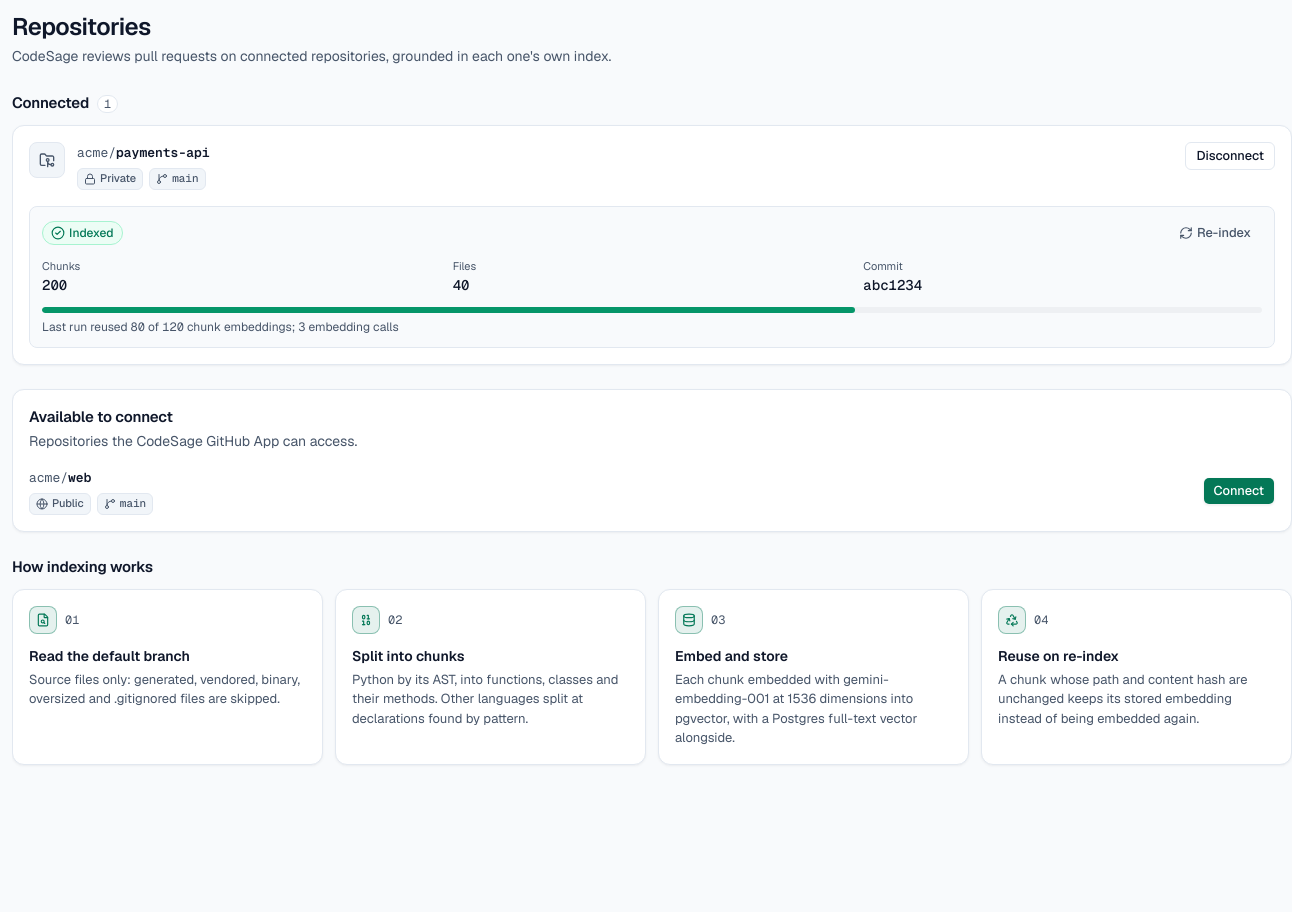
repositories page › confirms a connection with a toast
Click the button "Connect": (1239, 491) x1=1202 y1=477 x2=1275 y2=505
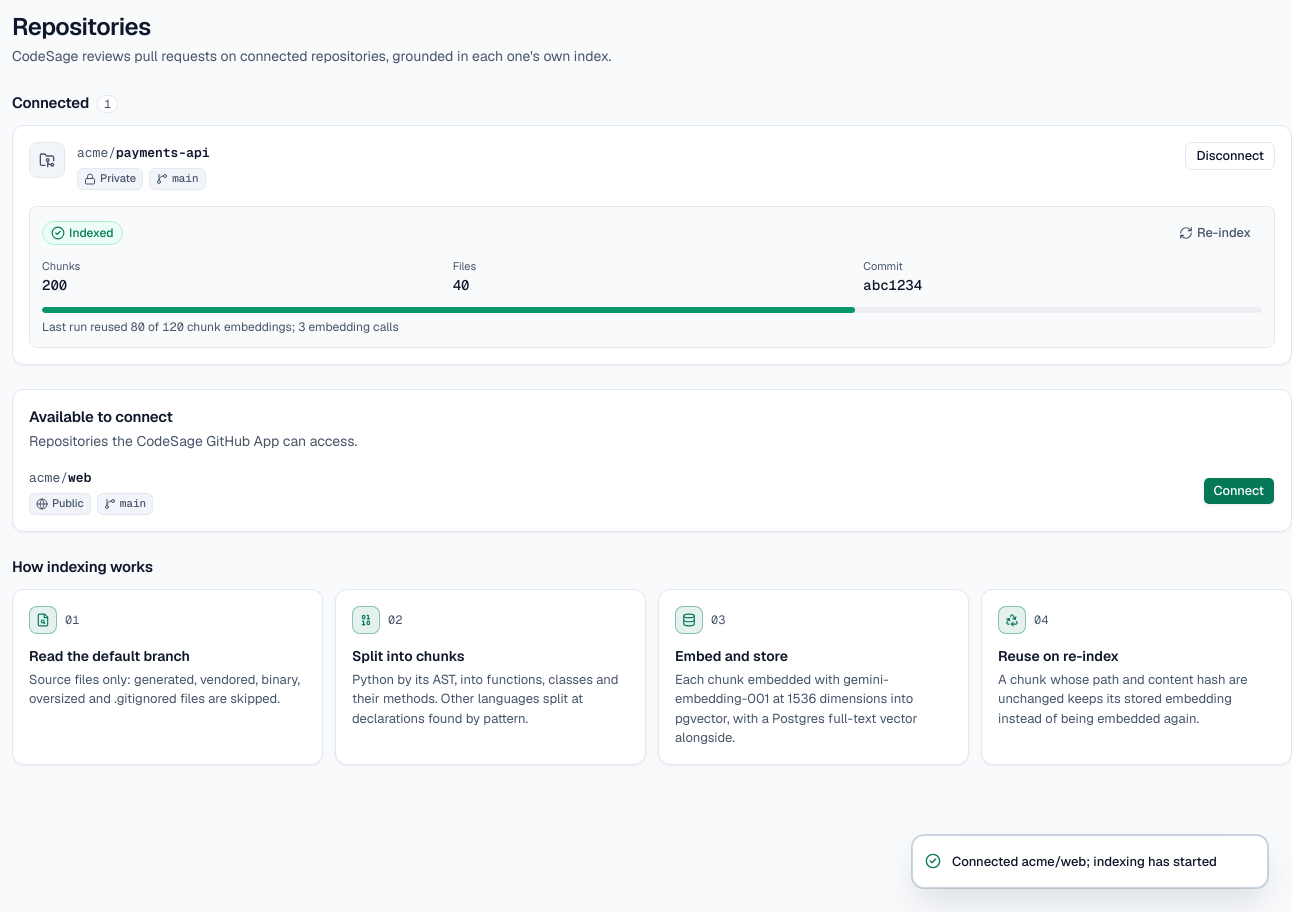
Expected: the text "Connected acme/web; indexing has started" is shown, x1=952 y1=852 x2=1217 y2=871
